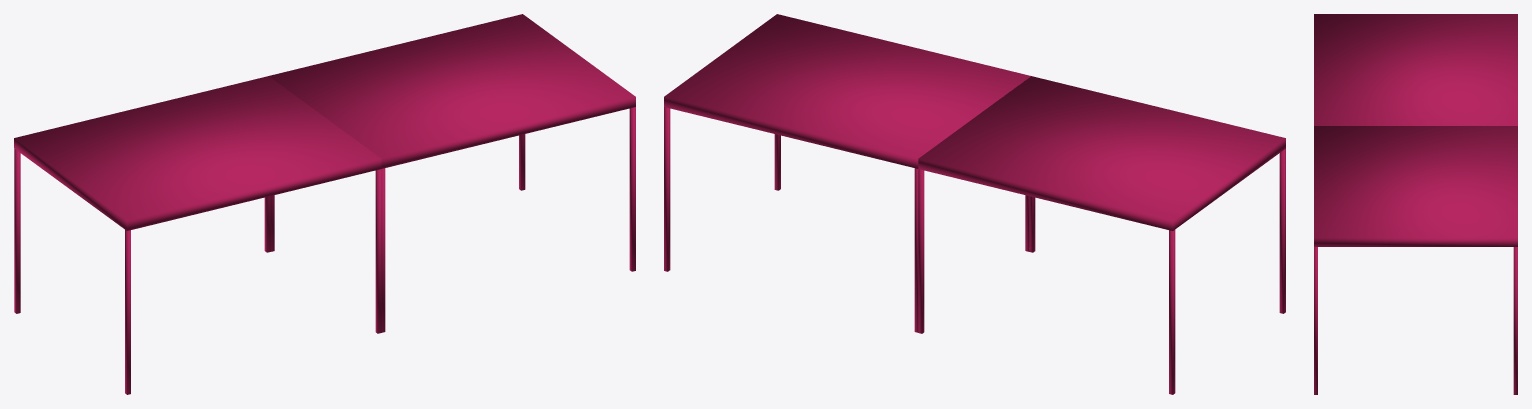
Rendered from desk.obj.
3 views of the same model, side by side, from view 1: azimuth 30°, elevation 25°; view 2: azimuth 150°, elevation 25°; view 3: azimuth 270°, elevation 25° (orthographic). The views are drawn at different scales.
Parts seen in each view (by area): view 1: Box005; view 2: Box005; view 3: Box005.
Boxes of the visible parts, left/top/right/bottom form: Box005: left=14, top=14, right=635, bottom=394; Box005: left=664, top=14, right=1285, bottom=394; Box005: left=1314, top=14, right=1517, bottom=394.
Bounding box in the file's own units: 2.6 × 0.85 × 1.
